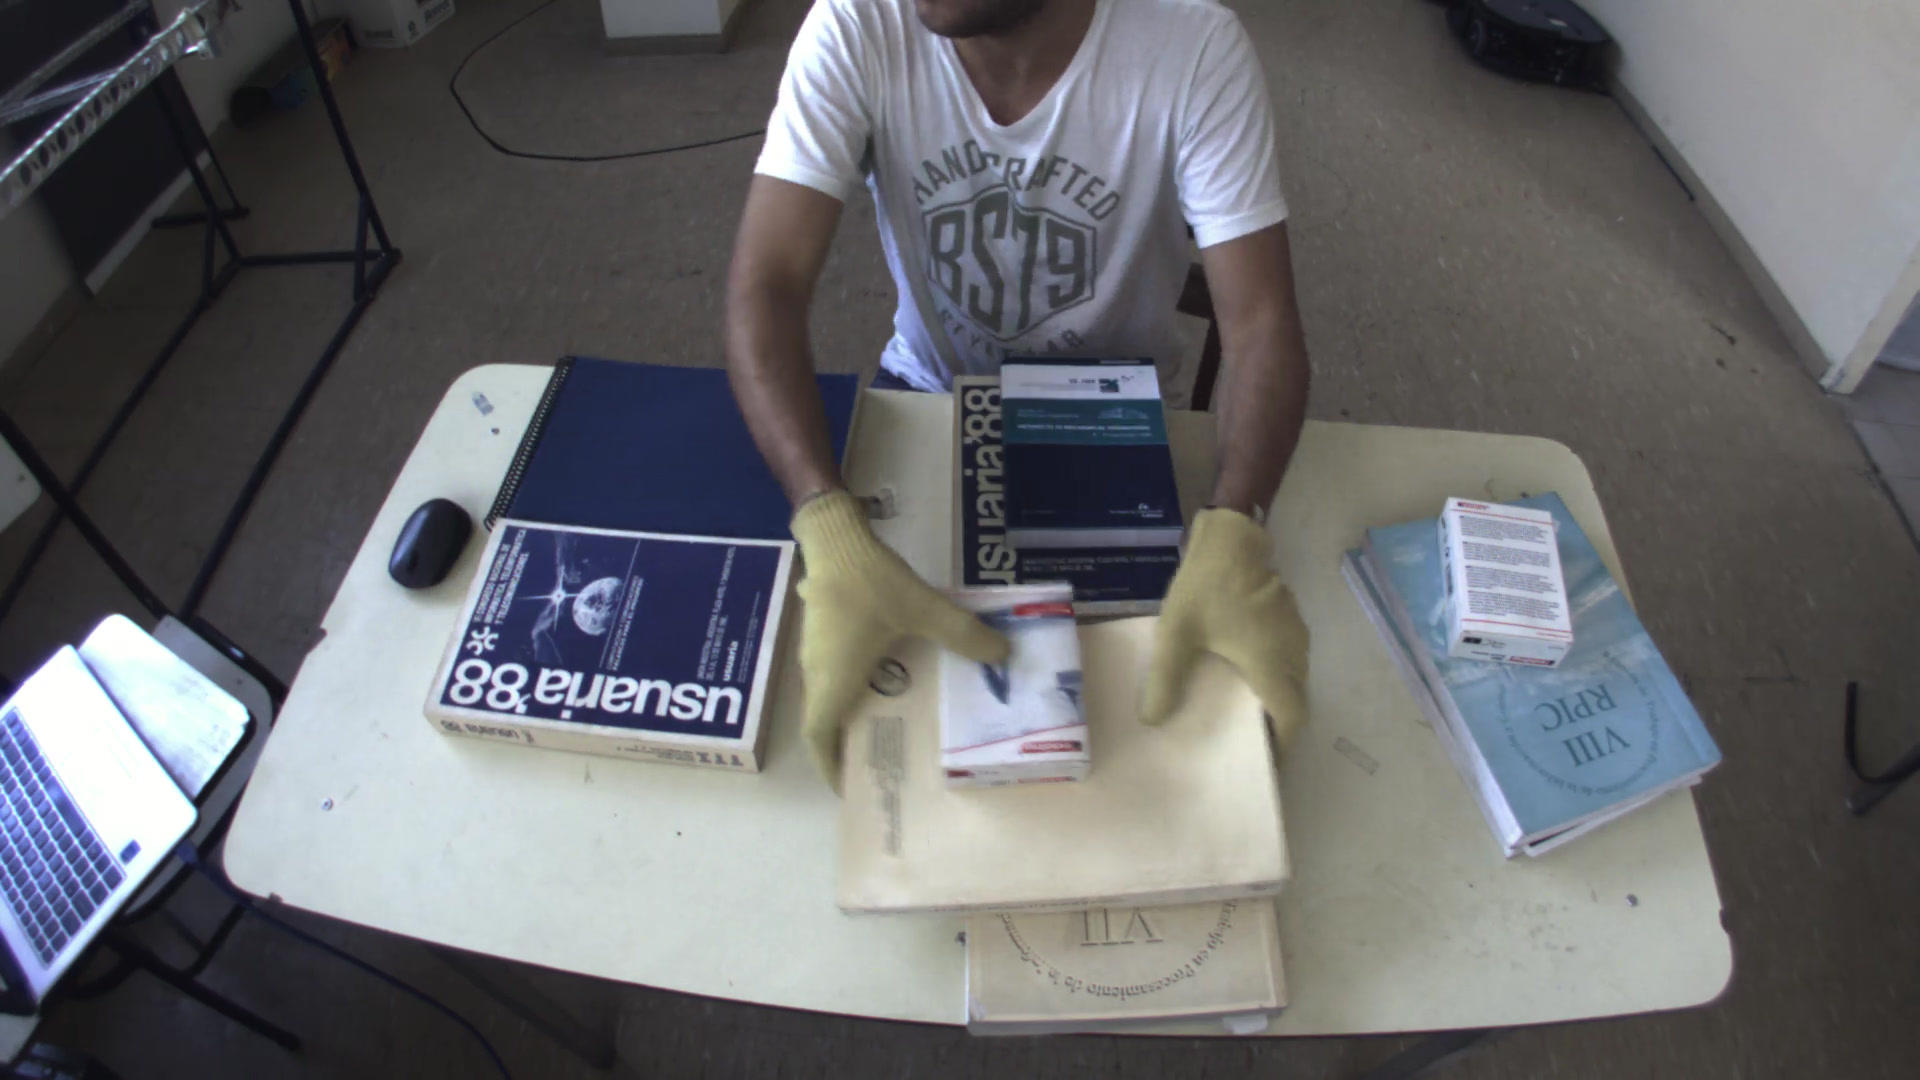hand: (778, 475, 1011, 778), (1139, 502, 1325, 750)
